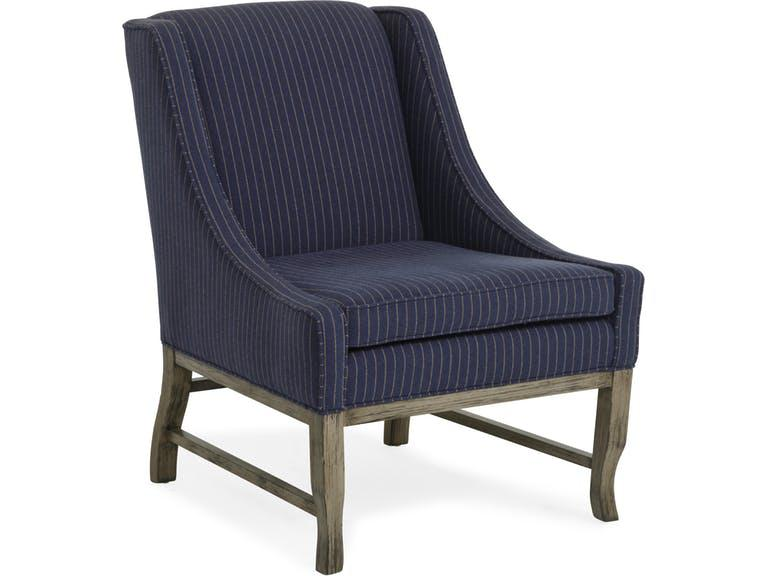chair: (105, 6, 679, 576)
